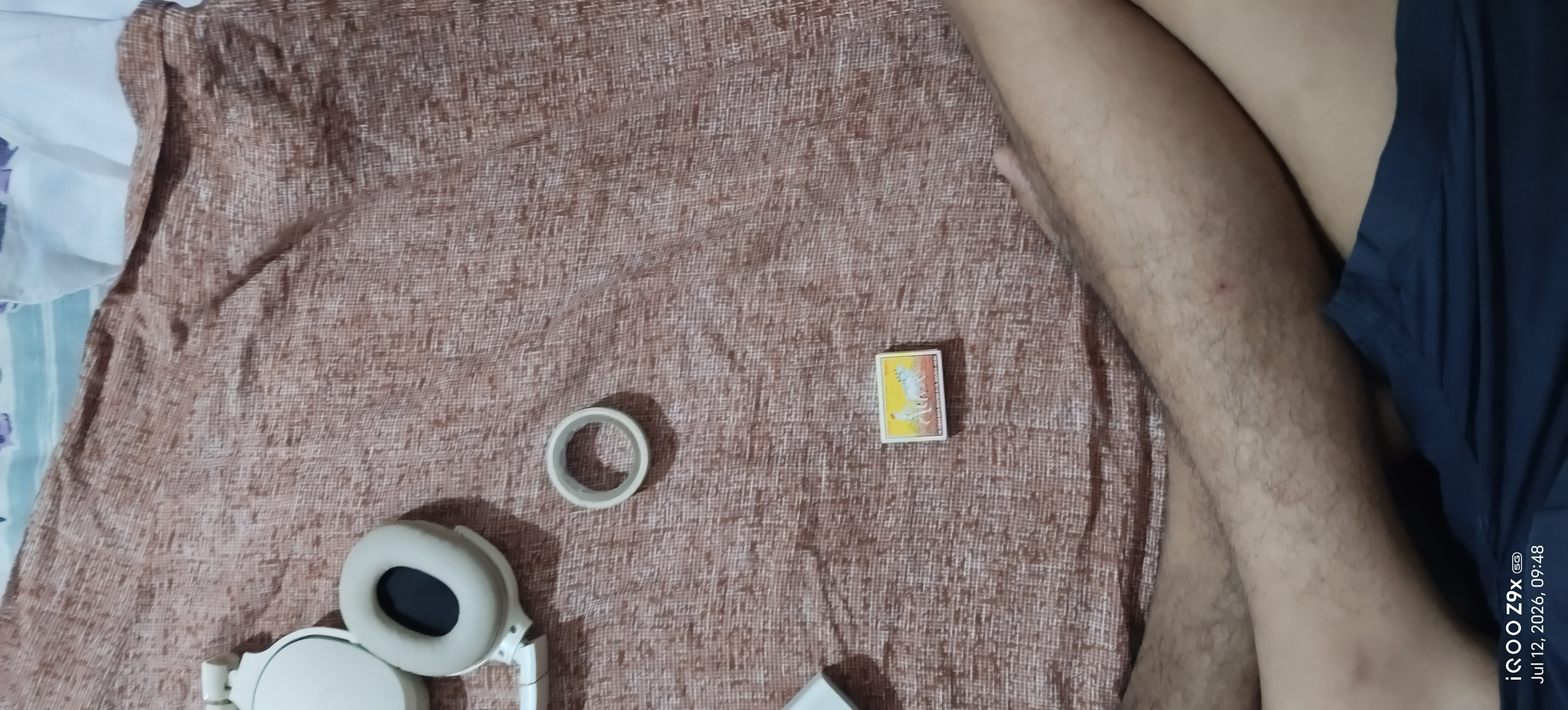matchbox: (860, 334, 971, 474)
tape_roll: (535, 395, 673, 523)
